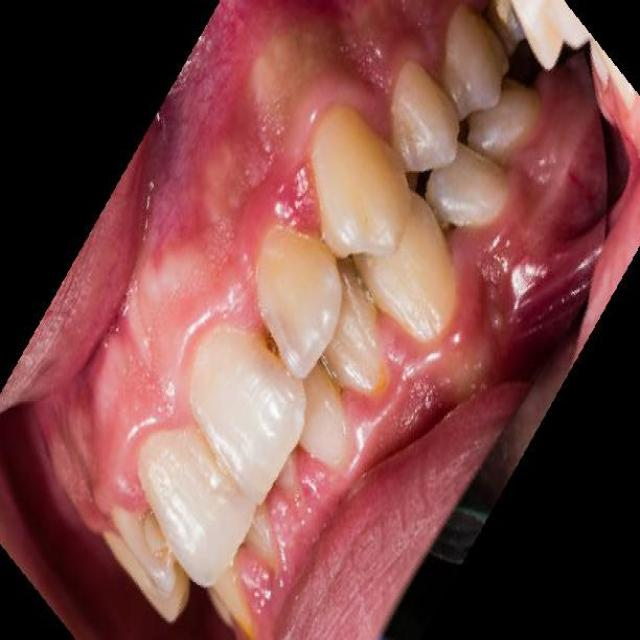caries: (130, 501, 182, 580)
